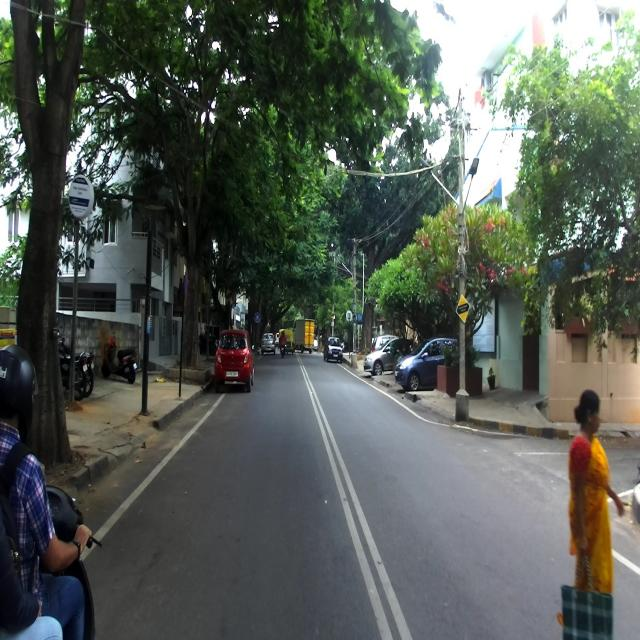Car: (394, 337, 460, 391)
Car_Maruti-Suzuki: (213, 327, 255, 397)
motorcycle_Hero: (54, 318, 90, 402)
motorcycle_Honda: (59, 332, 96, 399)
scooter: (0, 482, 102, 640), (100, 324, 138, 385)
